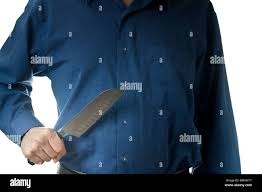knife: (18, 88, 123, 165)
